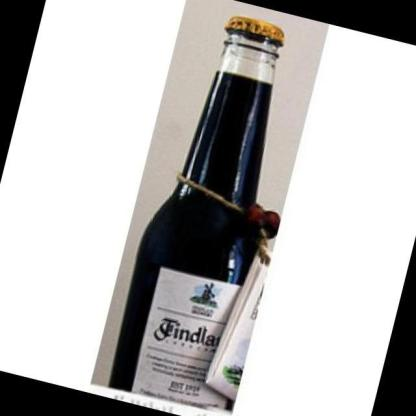Can: (108, 16, 286, 411)
